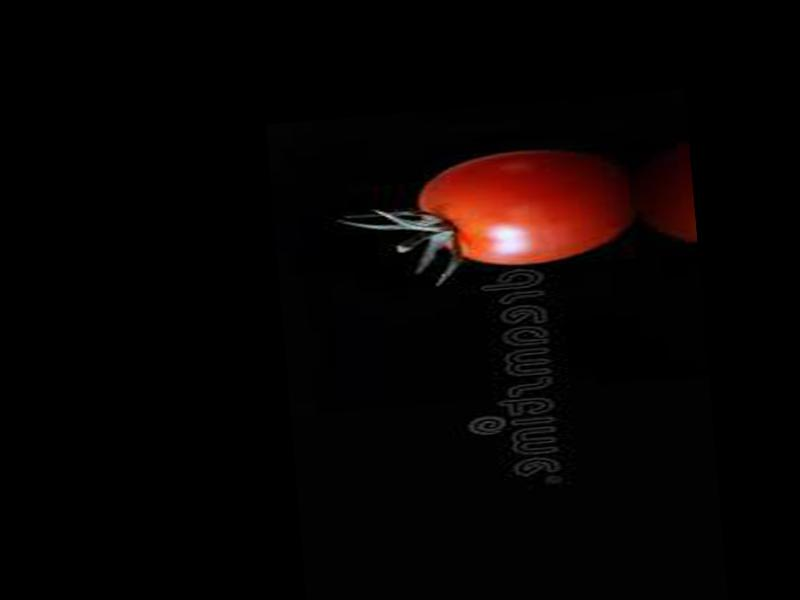Tomato: (413, 142, 635, 273)
